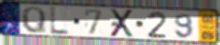2: (146, 11, 168, 40)
7: (83, 9, 104, 36)
9: (173, 13, 196, 39)
L: (49, 6, 72, 36)
Q: (20, 6, 48, 35)
X: (109, 9, 136, 39)
